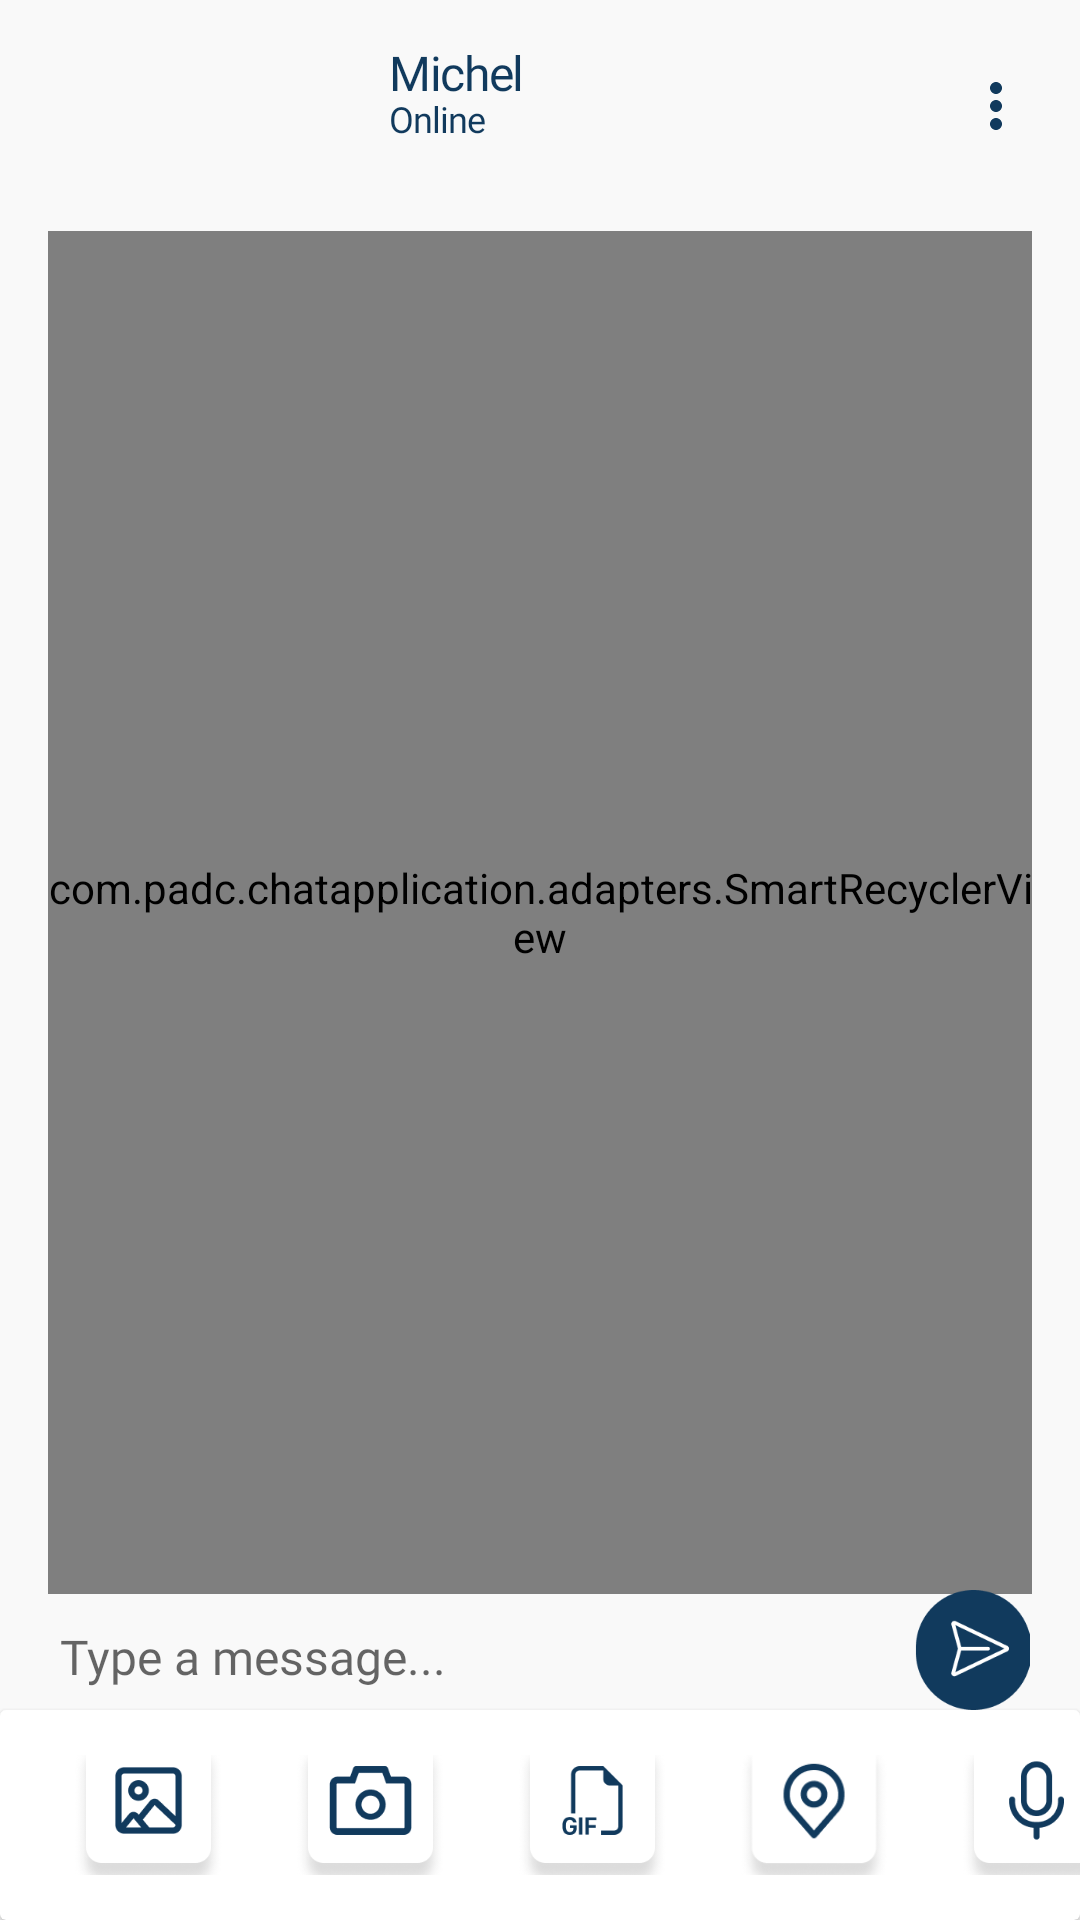

Icons on this 1080w x 1920h Android screen, each with its box as rect(x1, y1, x2, y2):
camera: rect(311, 1766, 430, 1875)
gallery: rect(89, 1767, 208, 1875)
location: rect(755, 1763, 873, 1875)
more vert: rect(990, 82, 1002, 130)
send msg: rect(912, 1590, 1032, 1710)
